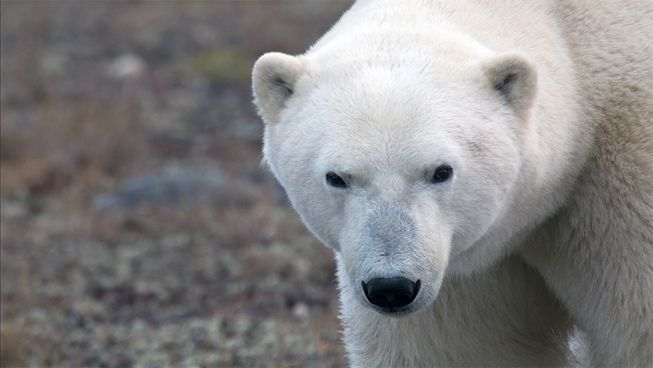Polar Bear: (223, 7, 653, 353)
